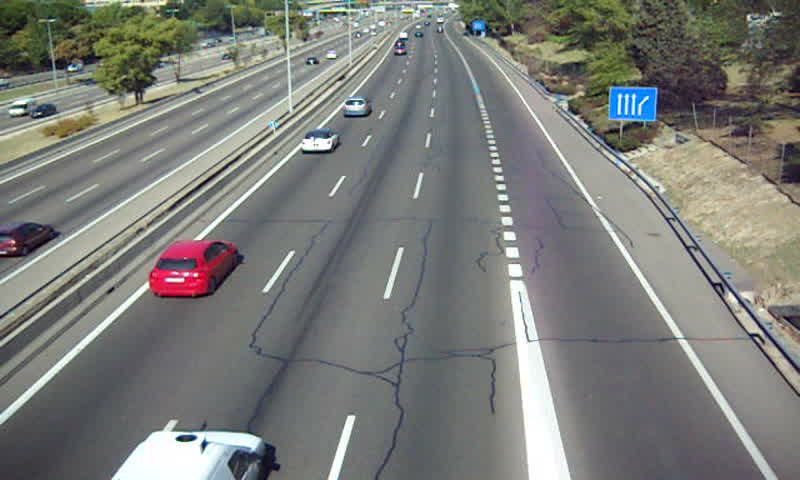car: (147, 240, 239, 297), (300, 130, 339, 153), (343, 96, 372, 117)
